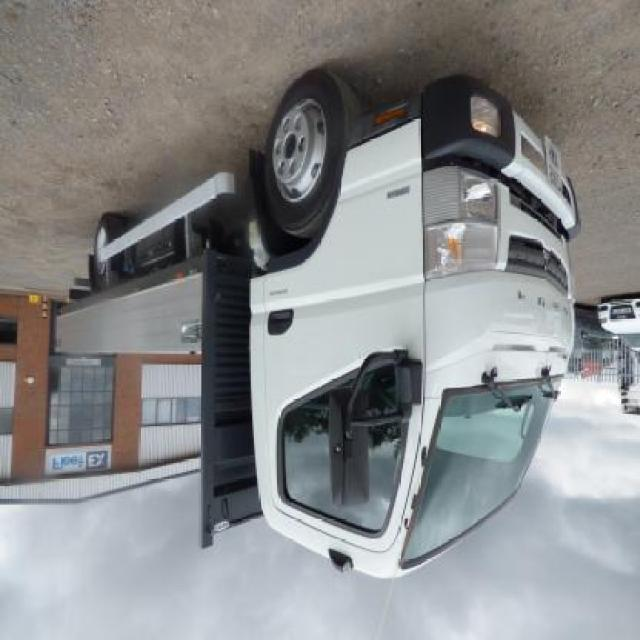truck: (51, 77, 582, 585)
